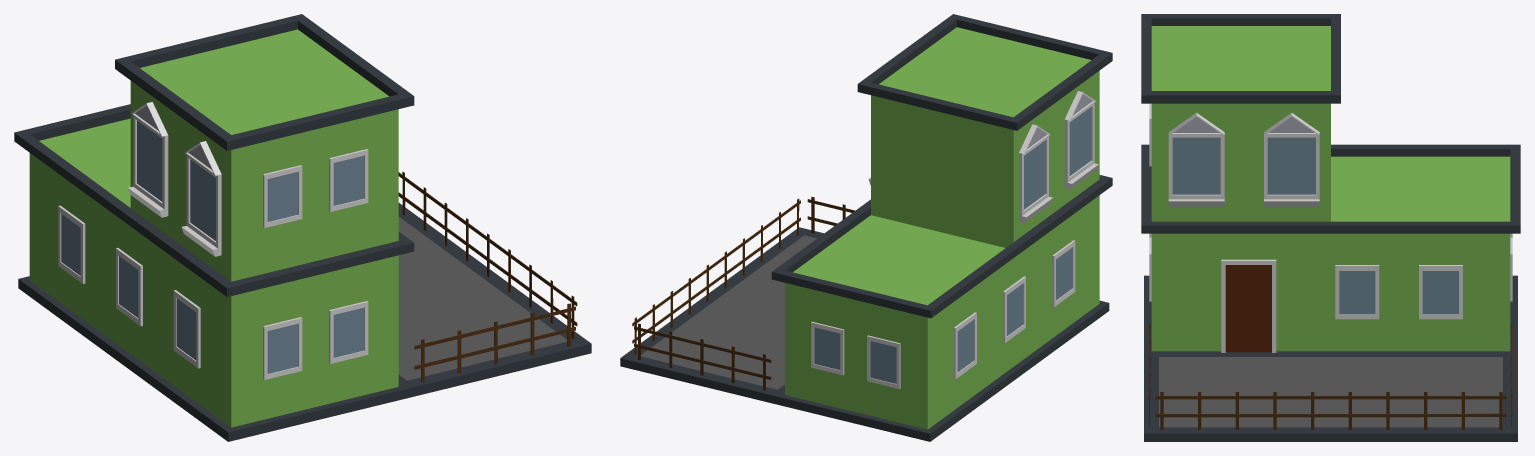
Rendered from garden green.fbx.
3 renders of one model, left to right at view 1: azimuth 30°, elevation 25°; view 2: azimuth 150°, elevation 25°; view 3: azimuth 270°, elevation 25°, orthographic. The views are drawn at different scales.
Parts seen in each view (by area): view 1: garden green; view 2: garden green; view 3: garden green.
Part boxes in pixels (bbox=[...]): garden green: bbox=[14, 14, 591, 441]; garden green: bbox=[620, 14, 1112, 441]; garden green: bbox=[1141, 14, 1520, 441].
Size of the model in its own units: 8.06 by 6.35 by 8.12.
